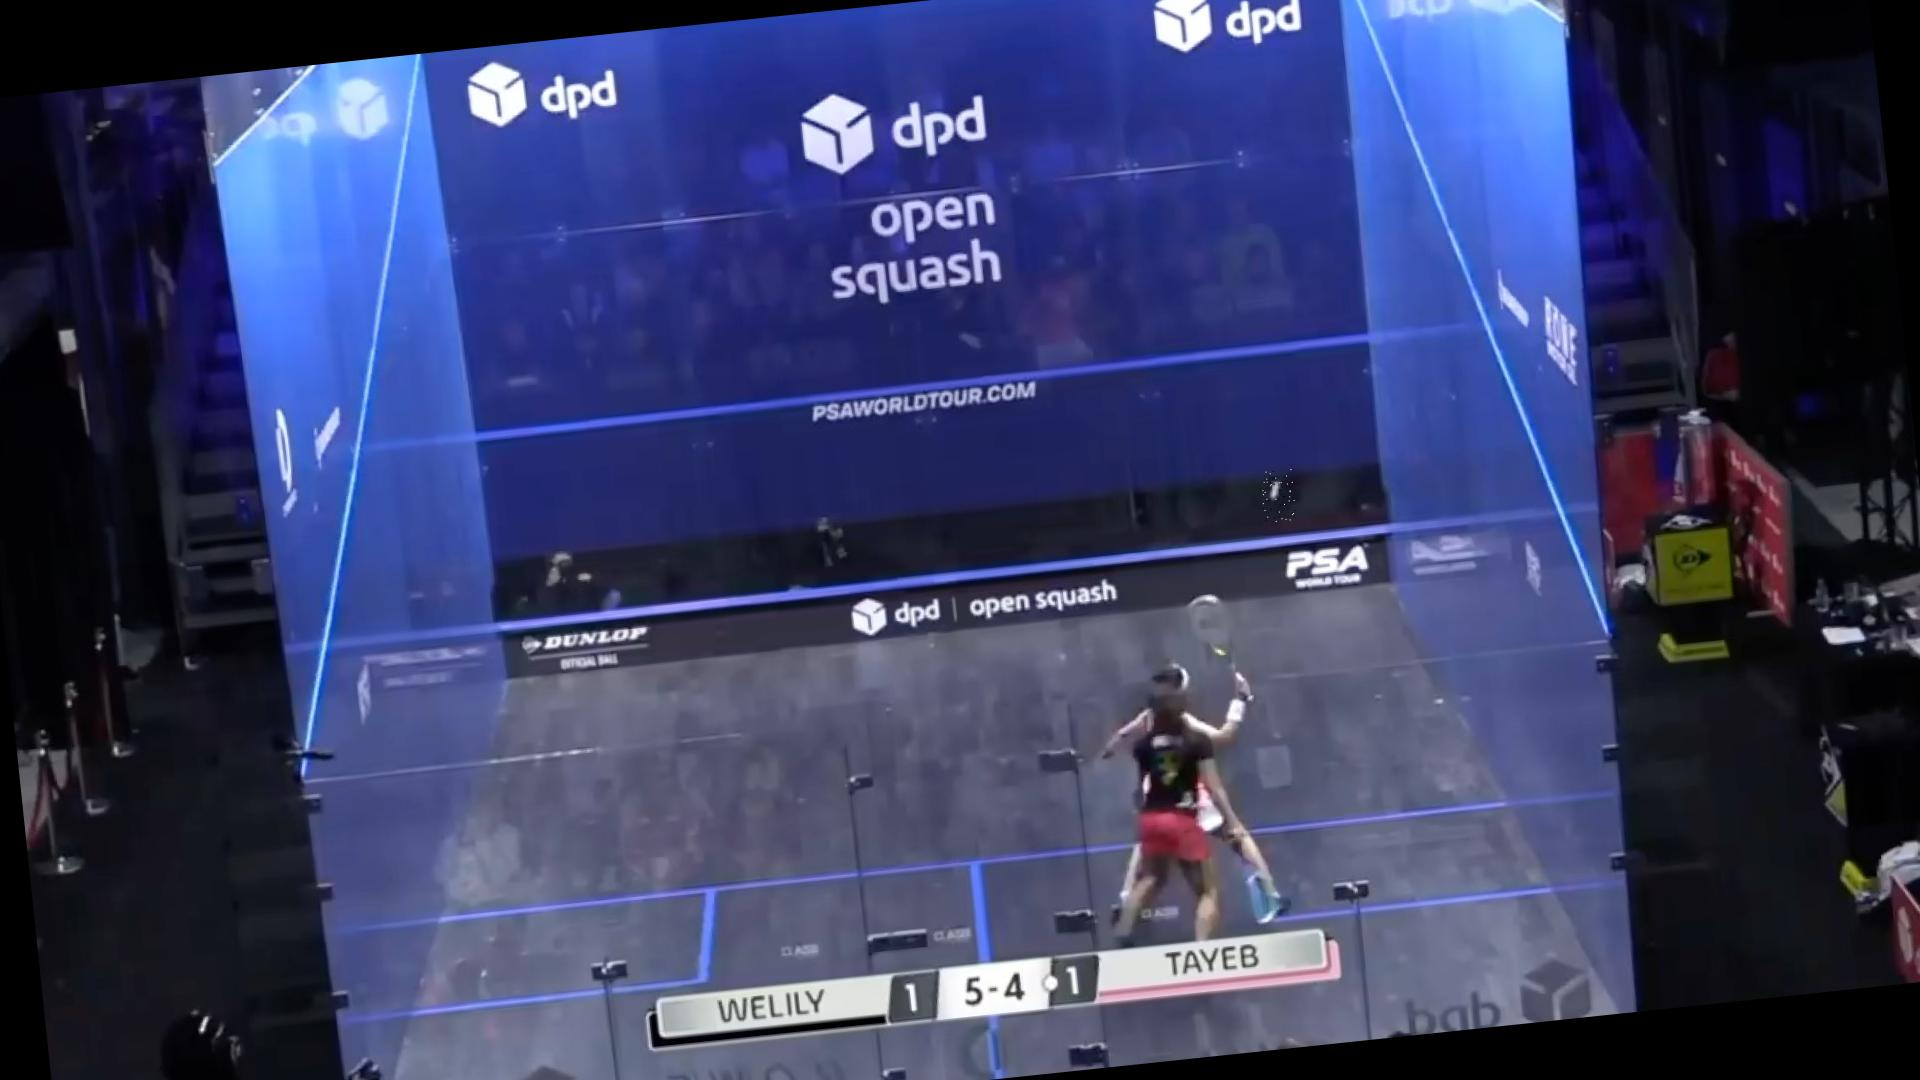Squash-Ball: (1258, 469, 1296, 524)
